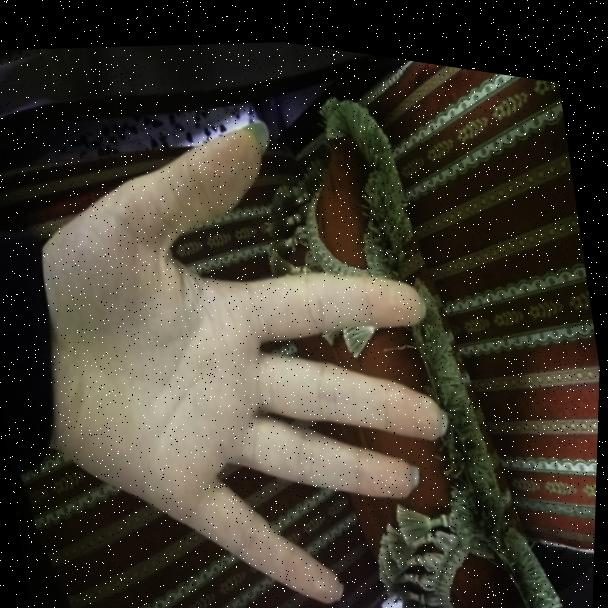five: (9, 46, 492, 608)
